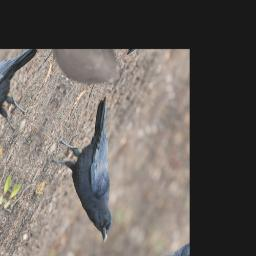Crow: (32, 82, 158, 245)
